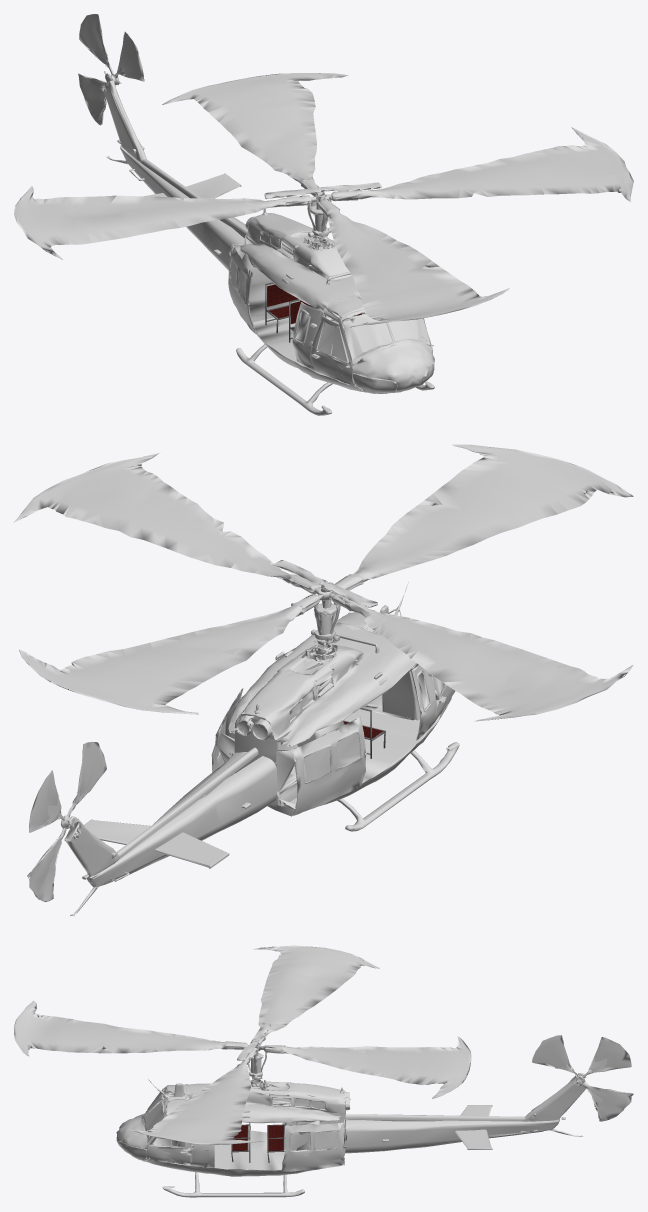
Rendered from Helicopter.fbx.
3 renders of one model, top to bottom at view 1: azimuth 30°, elevation 25°; view 2: azimuth 150°, elevation 25°; view 3: azimuth 270°, elevation 25°, orthographic. The views are drawn at different scales.
Visible parts, largest first — view 1: MainRotor, Body, TailRotor, Seats; view 2: MainRotor, Body, TailRotor; view 3: Body, MainRotor, TailRotor, Seats.
Part boxes in pixels (x1,y1,x2,y2): MainRotor: [14, 73, 633, 327]; Body: [100, 80, 434, 415]; TailRotor: [78, 14, 144, 144]; Seats: [265, 282, 364, 342]; MainRotor: [14, 444, 633, 721]; Body: [64, 582, 459, 916]; TailRotor: [27, 741, 106, 902]; Body: [116, 1051, 589, 1197]; MainRotor: [14, 945, 471, 1144]; TailRotor: [532, 1035, 633, 1121]; Seats: [231, 1122, 286, 1162].
Bounding box in the file's own units: 12.97 × 4.4 × 17.15.
2 materials, 1 textured.
